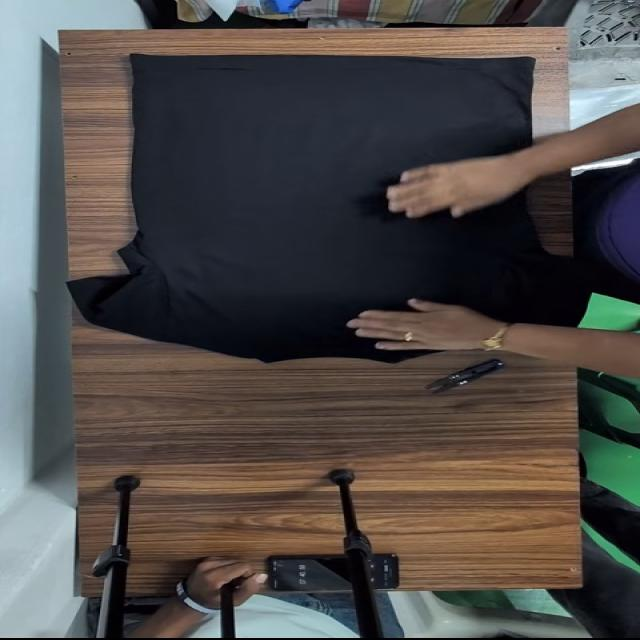new-garment: (69, 53, 588, 362)
